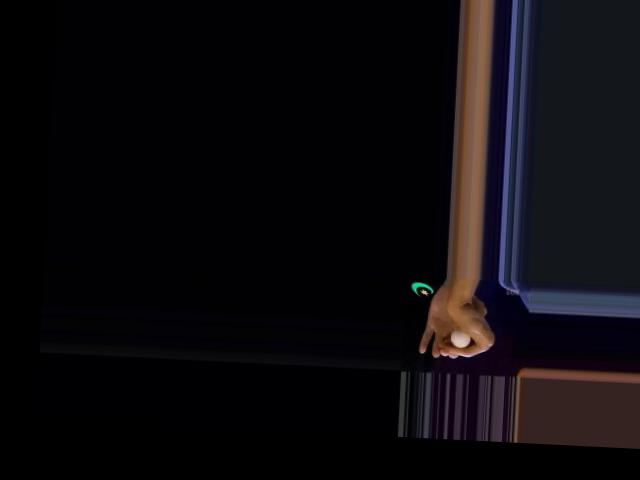egg: (450, 331, 471, 348)
